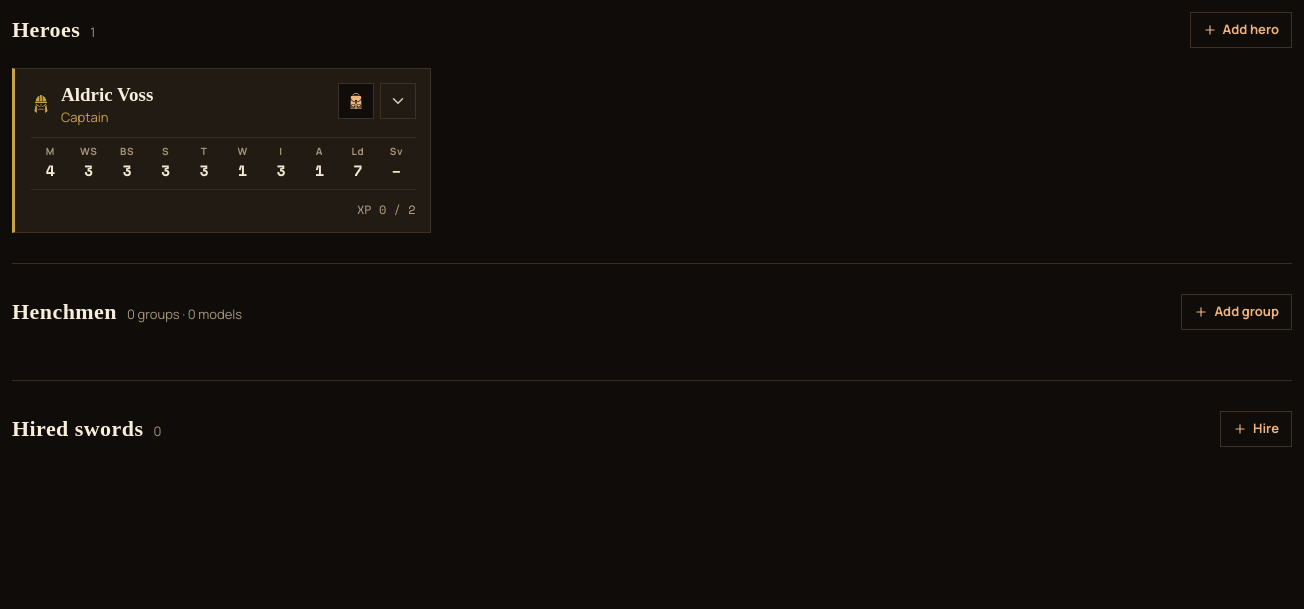
Test: Recruiting from the roster › opens the form in the Heroes section, and closes onto the new hero's collapsed card
The width and height of the screenshot is (1304, 609).
Step 1. Click the button "Add hero" → click(1241, 30), box 1190,12 -> 1292,48
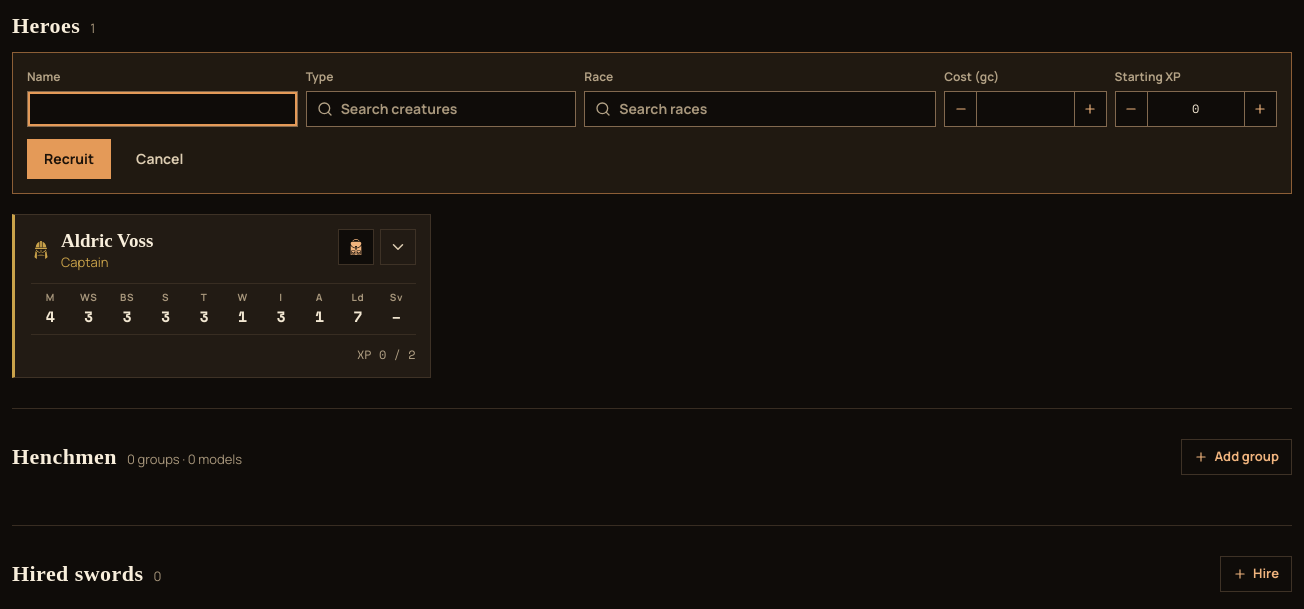
Step 2. Type "Ulrich Brandt" into the field labelled "Name" → (162, 108), box 27,90 -> 298,126
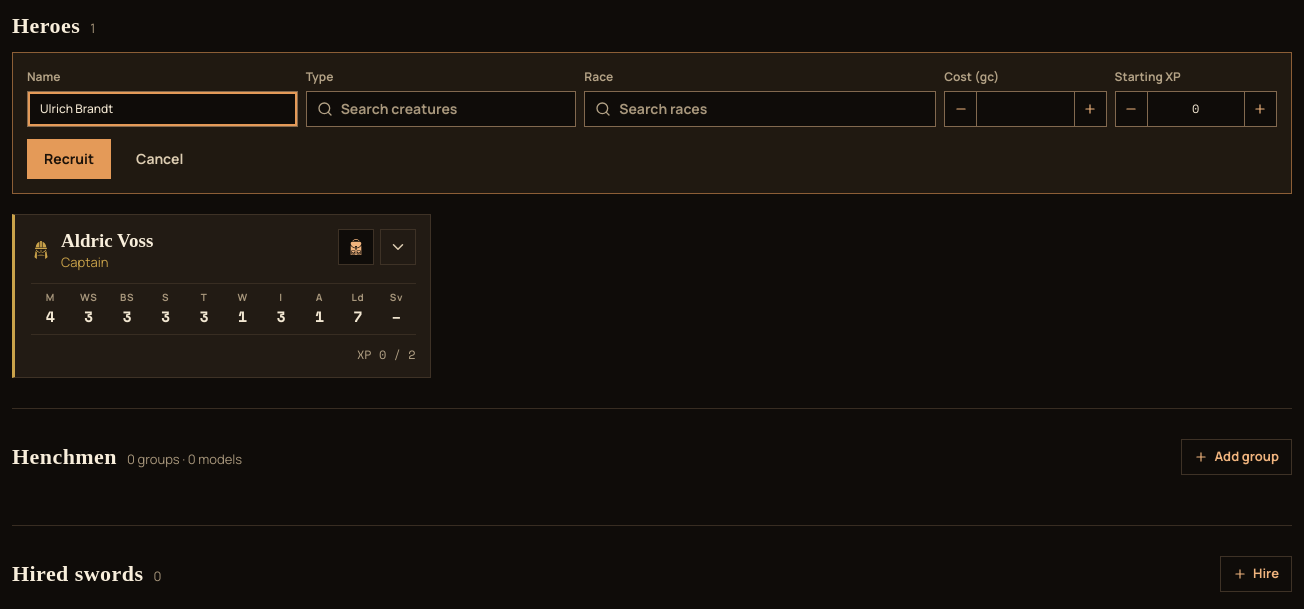
Step 3. Type "Champion" into the dropdown named "Type" → (453, 108), box 341,92 -> 565,126
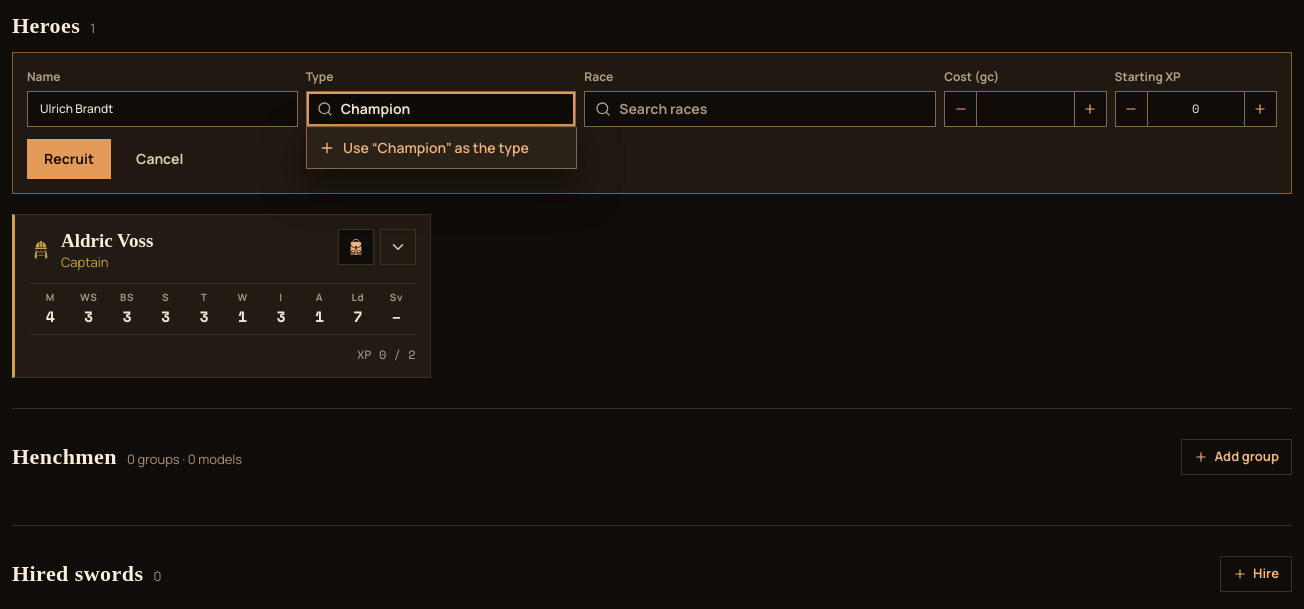
Step 4. Type "35" into the number field labelled "Cost (gc)" → (1025, 108), box 976,90 -> 1075,126
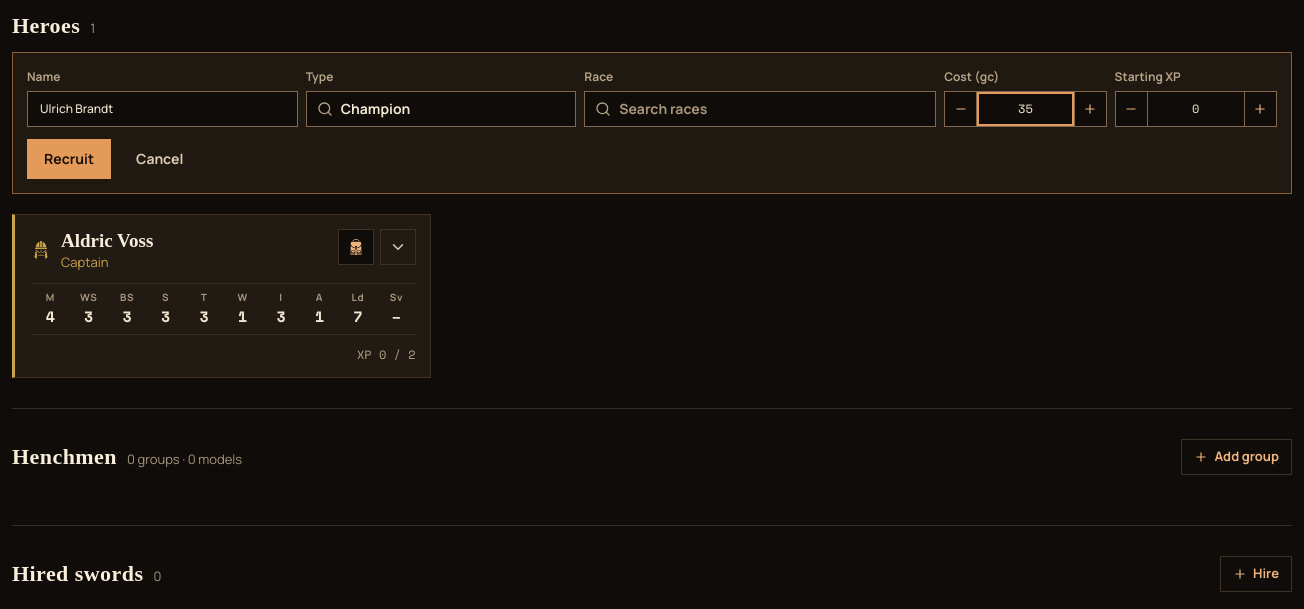
Step 5. Click the button "Recruit" → click(69, 158), box 27,138 -> 111,178
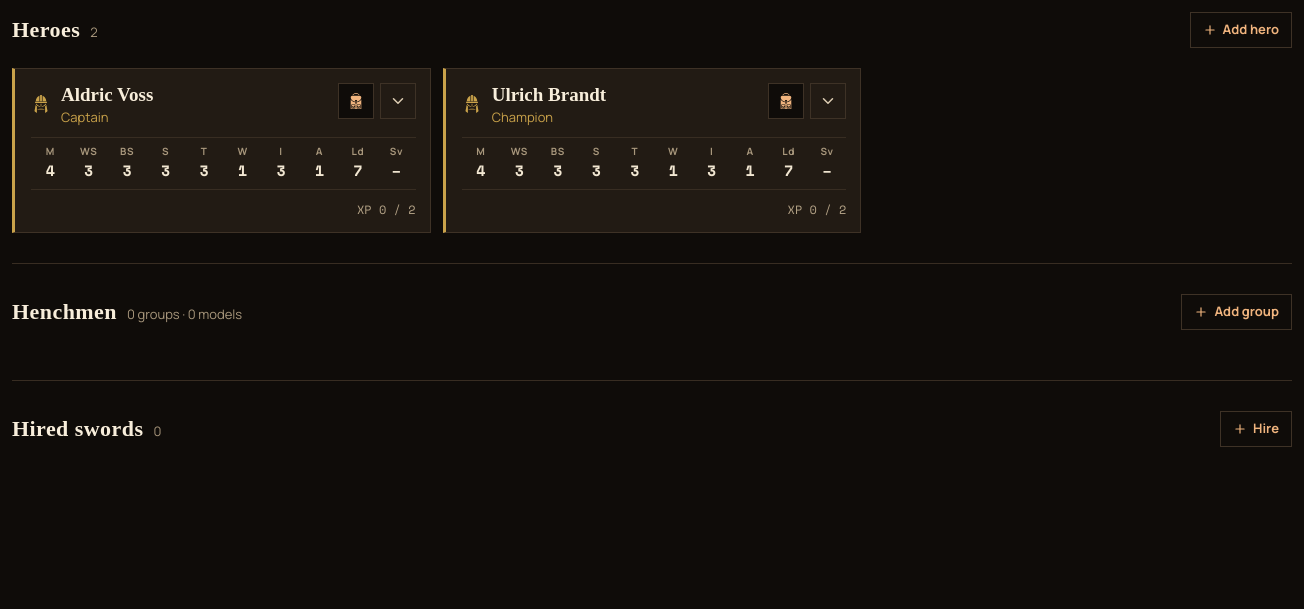
expect the button "Recruit" is gone: met
expect the button "Ulrich Brandt Champion" is shown: met, box 462,83 -> 606,125
